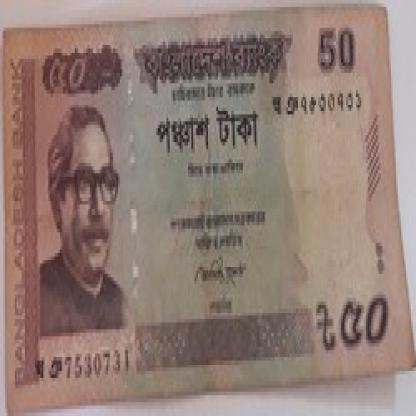Fifty taka: (321, 291, 396, 368), (43, 62, 108, 108)
